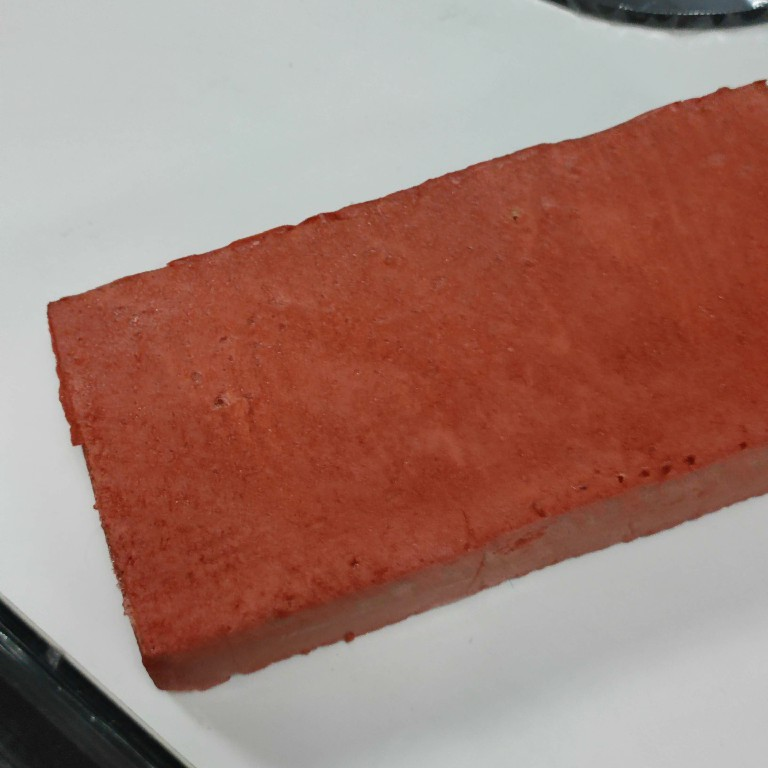brick: (40, 70, 768, 705)
